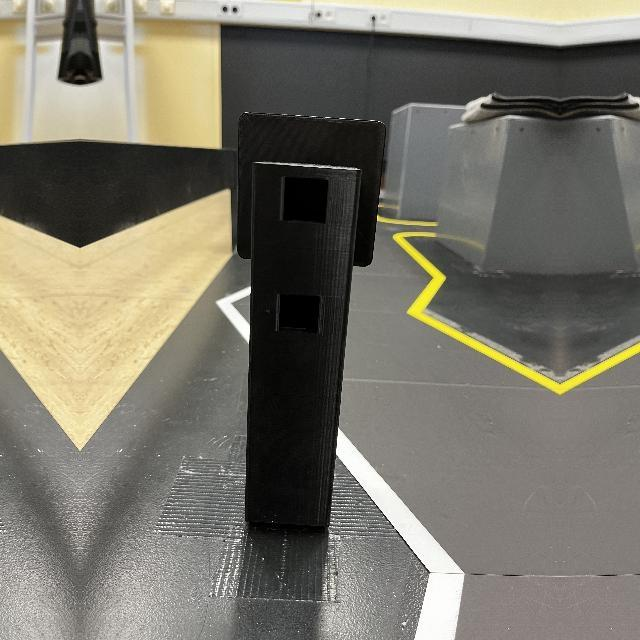obstacle: (234, 106, 390, 532)
